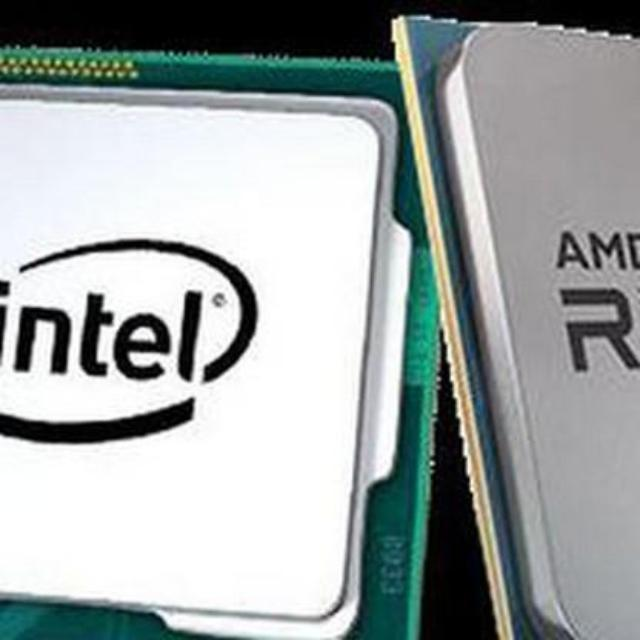CPU: (0, 49, 403, 614), (427, 0, 640, 640)
